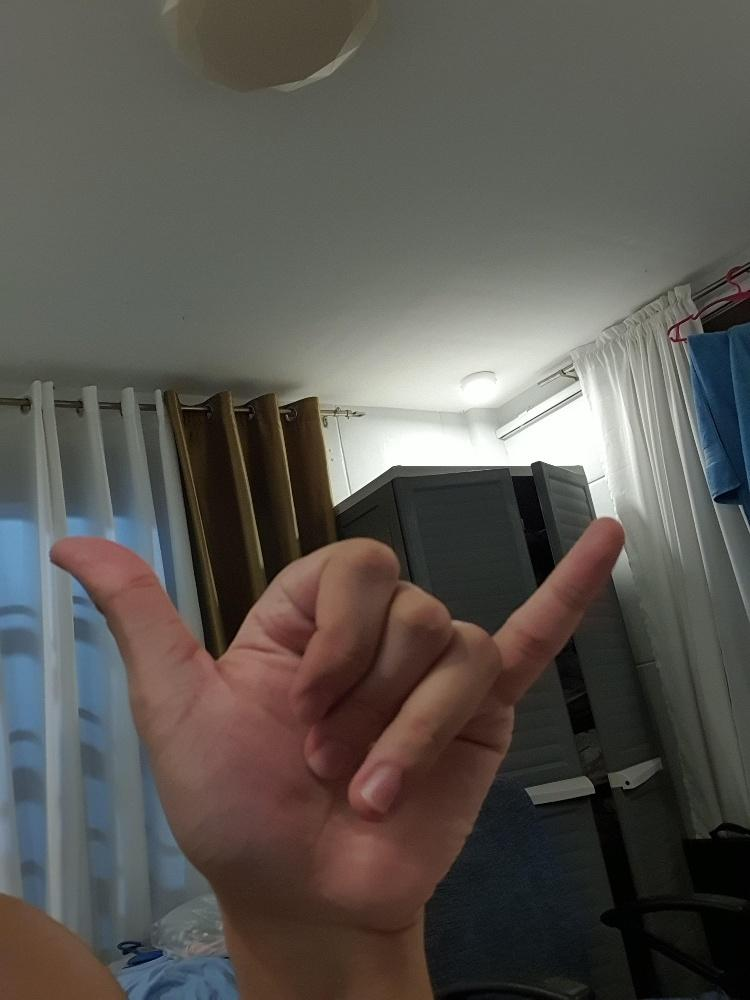y: (45, 507, 627, 930)
